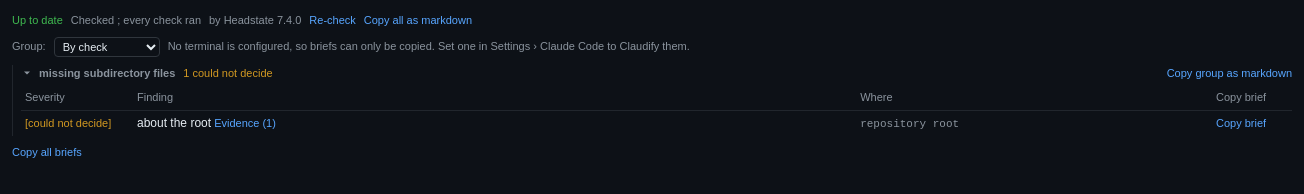
Test: ClaudeMdAdvicePanel › labels the repository itself as the repository root, never / or empty
This screenshot has width=1304, height=194.
Select "By file" in the dropdown labelled "Group:" at coordinates (107, 46), box [54,36,160,56]
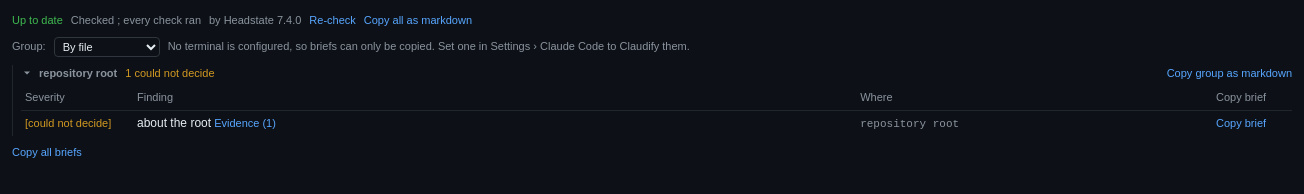
Click the button "Evidence (1)" at coordinates (245, 123), box [214,114,276,131]
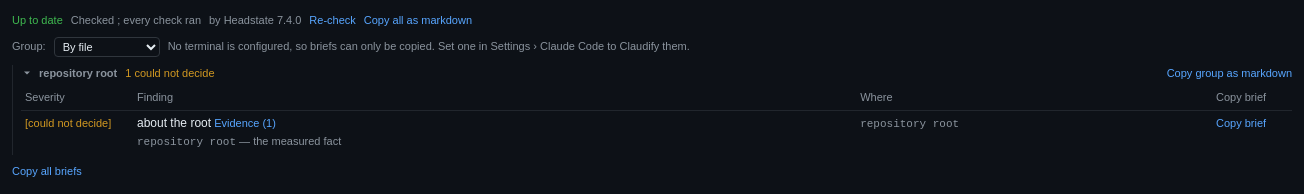
Expected: the list item "the measured fact" reads "repository root — the measured fact", [137,135,341,148]
